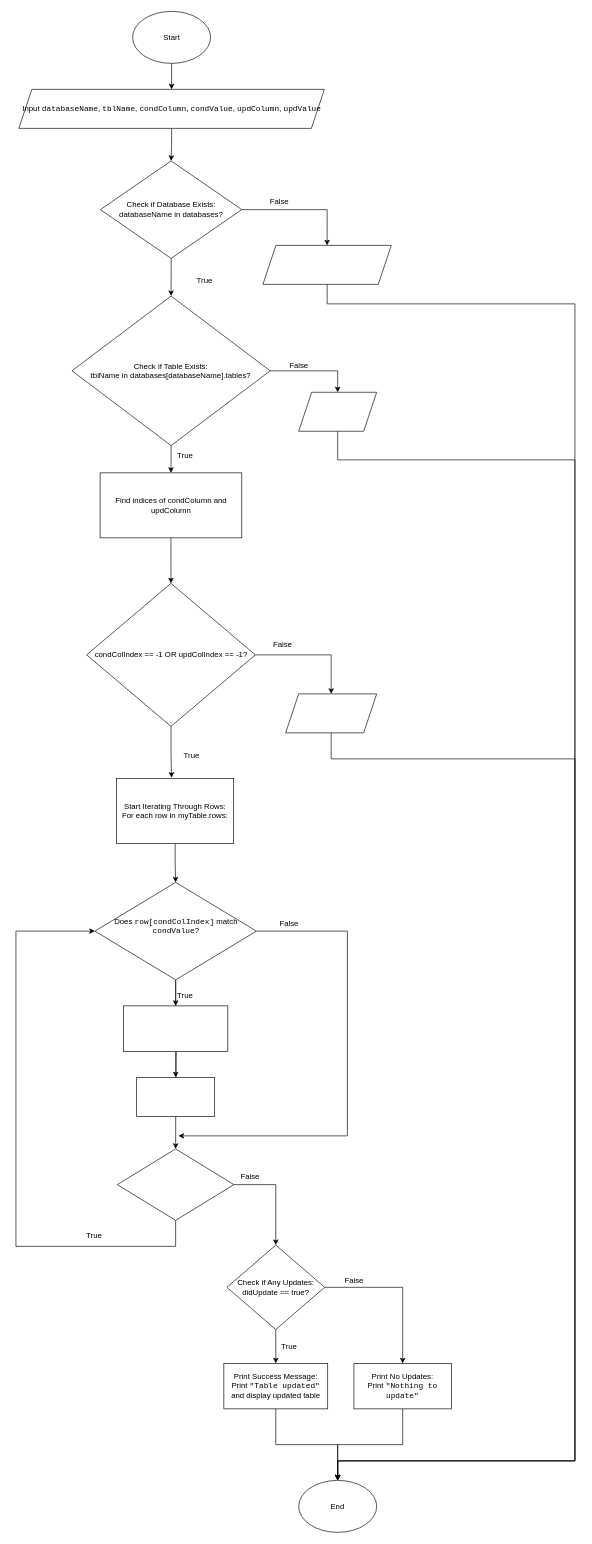
Image size: 592x1544. Some labels were removed from this diagram. The centre of each missing label's shape, as x and y in pixels:
didUpdate = true: pixel 175 1096
More rows to process?: pixel 175 1184
Print "Columns not found": pixel 331 713
Print "Database not found": pixel 326 264
Print "Table missing": pixel 337 411
Update row[updColIndex] = updValue: pixel 175 1028
